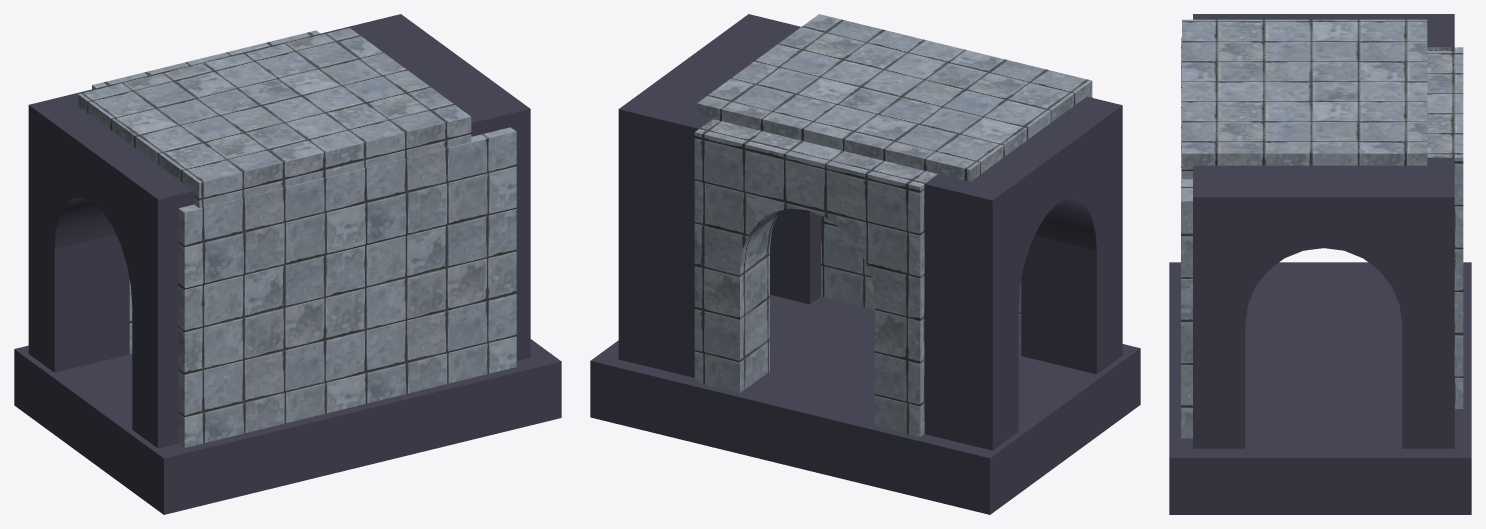
Rendered from ConnectorHallway.fbx.
3 renders of one model, left to right at view 1: azimuth 30°, elevation 25°; view 2: azimuth 150°, elevation 25°; view 3: azimuth 270°, elevation 25°, orthographic.
Visible parts, largest first — view 1: block (×3), block_gate% (×3); view 2: block_gate% (×3), block (×3); view 3: block (×3), block_gate% (×3).
Part boxes in pixels (<box>): block (×3): <box>14,28,561,514</box>; block_gate% (×3): <box>28,14,530,448</box>; block_gate% (×3): <box>618,14,1122,450</box>; block (×3): <box>590,14,1140,514</box>; block (×3): <box>1169,19,1471,514</box>; block_gate% (×3): <box>1193,14,1463,448</box>.
Bounding box in the file's own units: 24.49 × 18.65 × 15.97.
